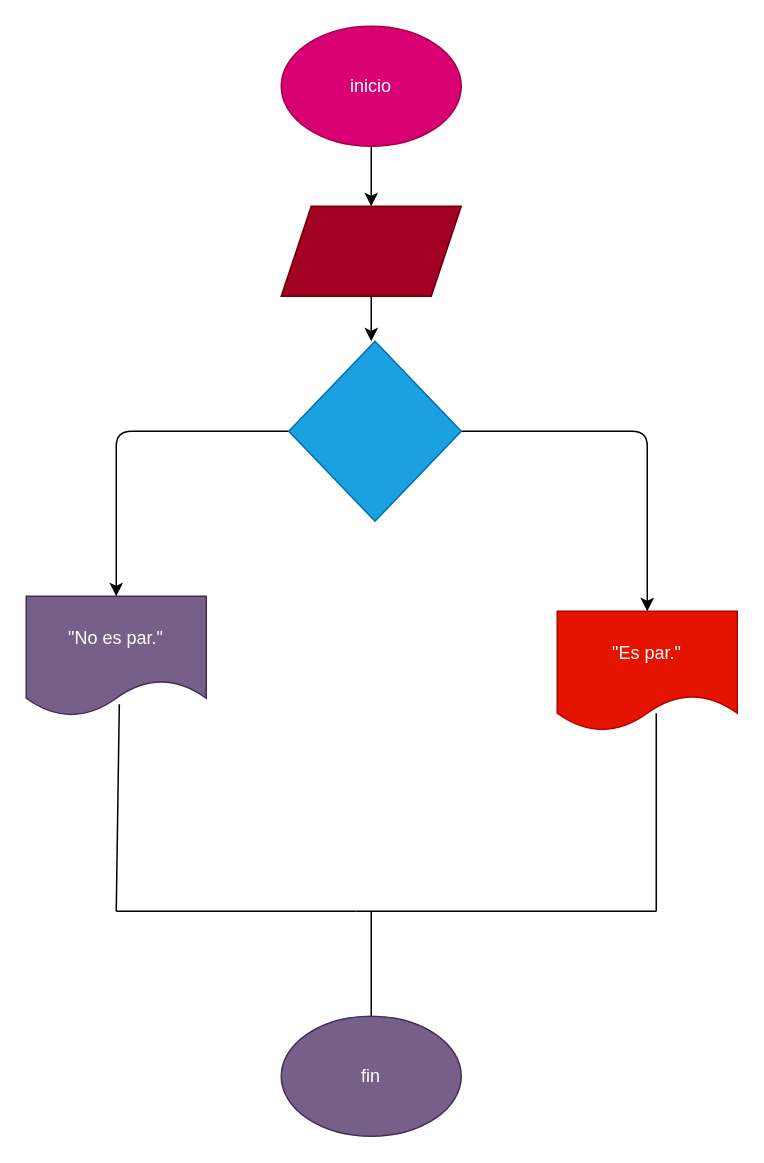
Image size: 764x1163. Some labels were removed from this diagram. The shapes that lost their labels are listed below. From the top down, each one's centre as x and y in pixels, then its label:
the point at 370,250: num
the point at 374,430: num%2 =0
